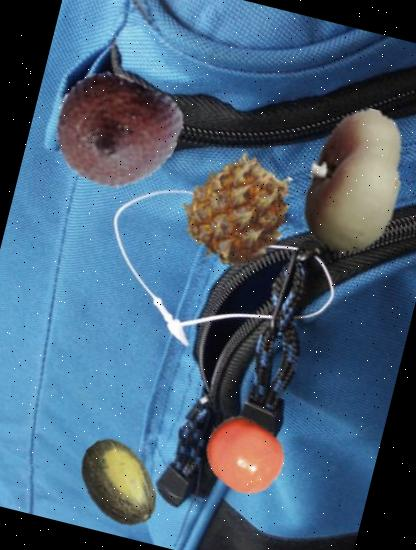Clementine: (196, 406, 293, 504)
Melon: (61, 428, 176, 542)
Peach: (265, 91, 416, 270)
Pineapple: (171, 142, 306, 278)
Salak: (42, 58, 190, 206)
